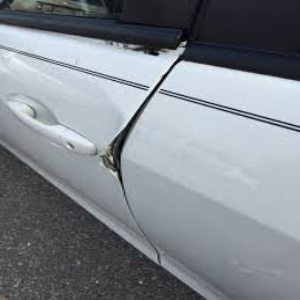door: (91, 117, 191, 197)
